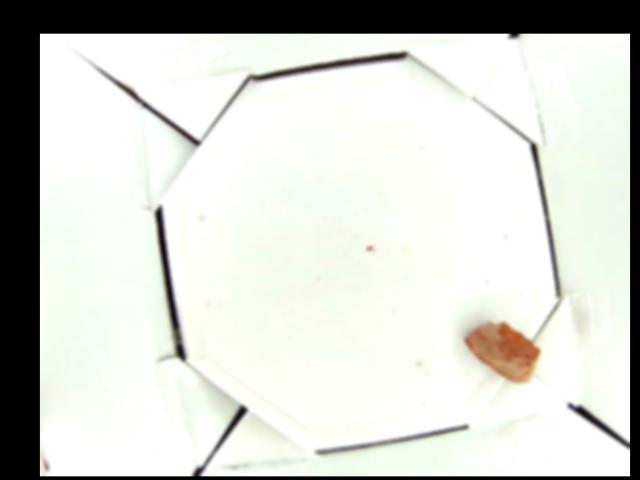Brisk: (464, 320, 540, 385)
